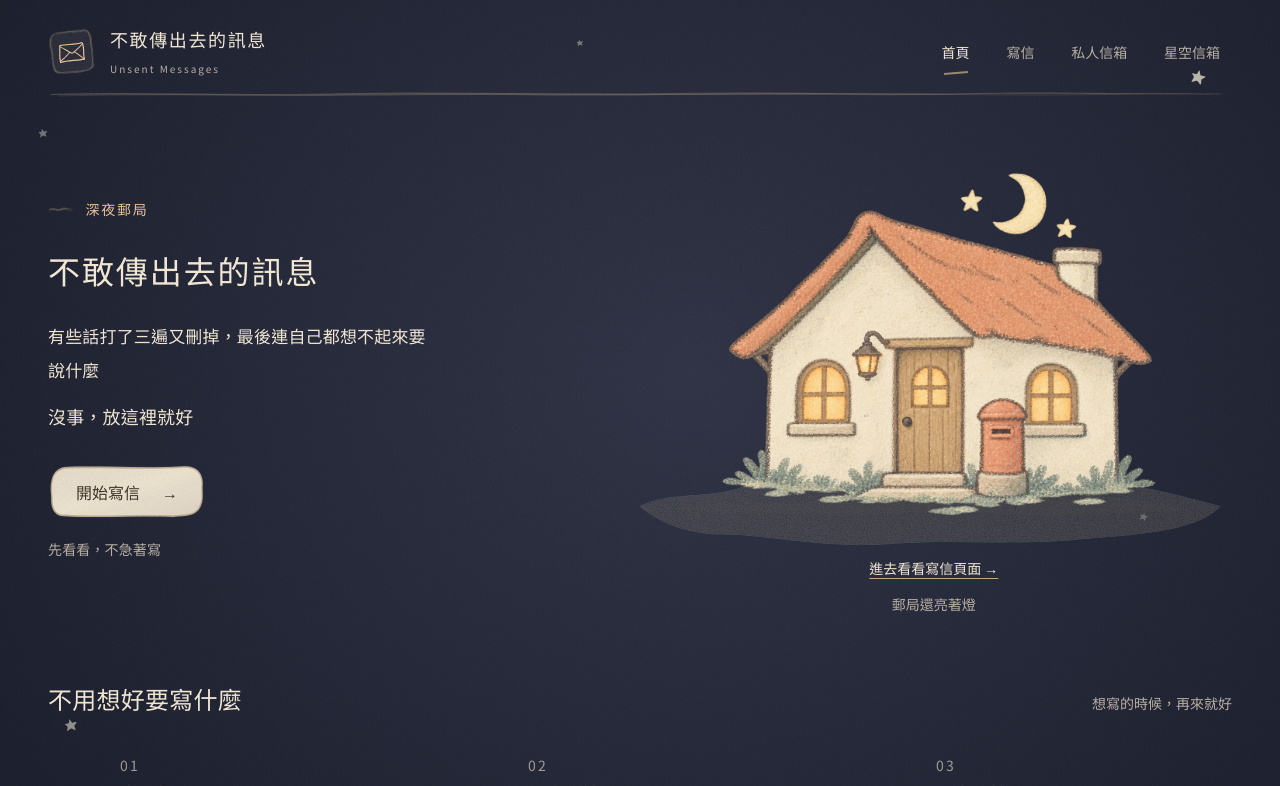
it: 路由與基礎導覽（jsdom） › 開始寫信立即導航，保持編輯器預覽狀態
Click the link "開始寫信 →" at (127, 492), box [48,463,206,521]
(page scrolled)
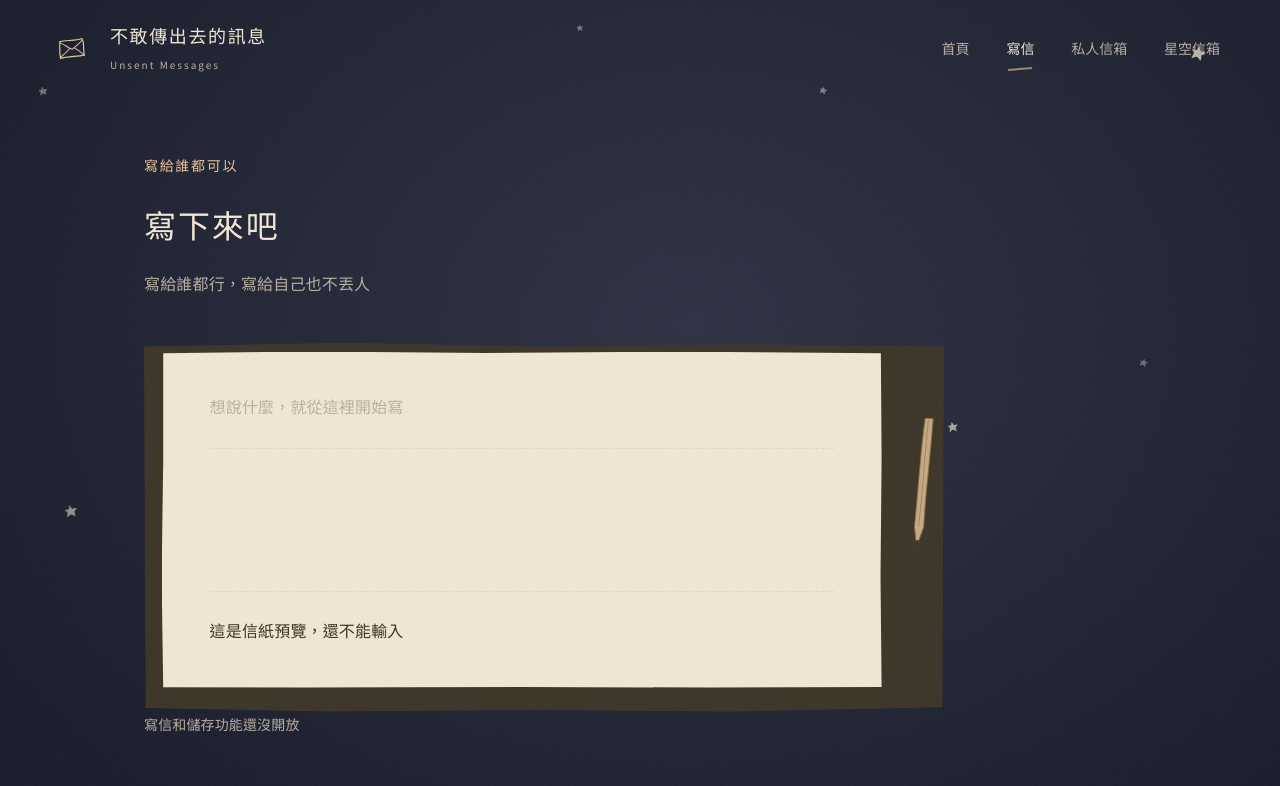
Check: the heading "寫下來吧" is shown, box [144,209,280,245]
Check: the text "寫信和儲存功能還沒開放" is shown, box [144,714,300,734]
